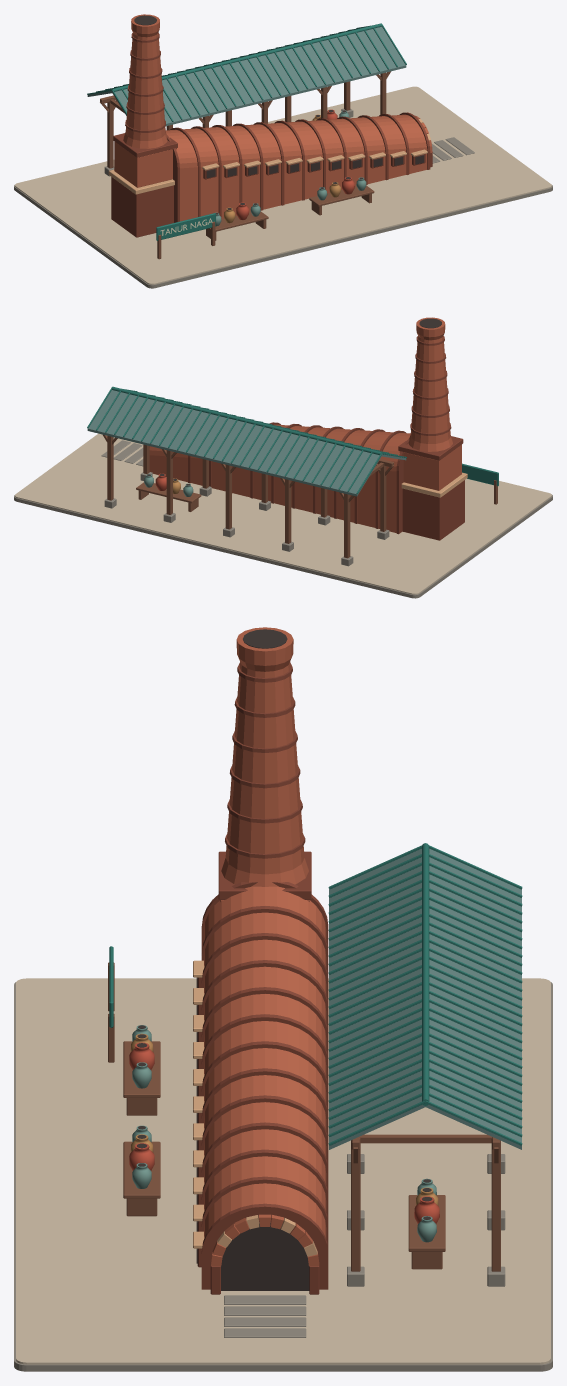
The picture shows the model from 3 angles, top to bottom: view 1: azimuth 30°, elevation 25°; view 2: azimuth 150°, elevation 25°; view 3: azimuth 270°, elevation 25°; orthographic projection. The views are drawn at different scales.
Visible parts, largest first — view 1: Potters Yard, Climbing Kiln, Stoking Shed, Draft Chimney, Stoneware Racks, Stoke Ports; view 2: Potters Yard, Stoking Shed, Draft Chimney, Climbing Kiln, Stoneware Racks; view 3: Potters Yard, Stoking Shed, Climbing Kiln, Draft Chimney, Stoneware Racks, Stoke Ports.
Boxes of the visible parts, x1=… form: Potters Yard: x1=14, y1=86, x2=552, y2=288; Climbing Kiln: x1=165, y1=112, x2=432, y2=222; Stoking Shed: x1=87, y1=23, x2=406, y2=176; Draft Chimney: x1=108, y1=14, x2=177, y2=237; Stoneware Racks: x1=206, y1=109, x2=374, y2=240; Stoke Ports: x1=202, y1=149, x2=427, y2=179; Potters Yard: x1=14, y1=433, x2=552, y2=598; Stoking Shed: x1=87, y1=386, x2=406, y2=566; Draft Chimney: x1=398, y1=317, x2=467, y2=540; Climbing Kiln: x1=149, y1=422, x2=410, y2=534; Stoneware Racks: x1=136, y1=473, x2=201, y2=511; Potters Yard: x1=14, y1=946, x2=552, y2=1371; Stoking Shed: x1=328, y1=843, x2=522, y2=1286; Climbing Kiln: x1=201, y1=882, x2=328, y2=1294; Draft Chimney: x1=218, y1=627, x2=311, y2=901; Stoneware Racks: x1=123, y1=1025, x2=445, y2=1269; Stoke Ports: x1=193, y1=960, x2=204, y2=1267.
Bounding box in the file's own units: 29.8 × 14.57 × 17.6.
